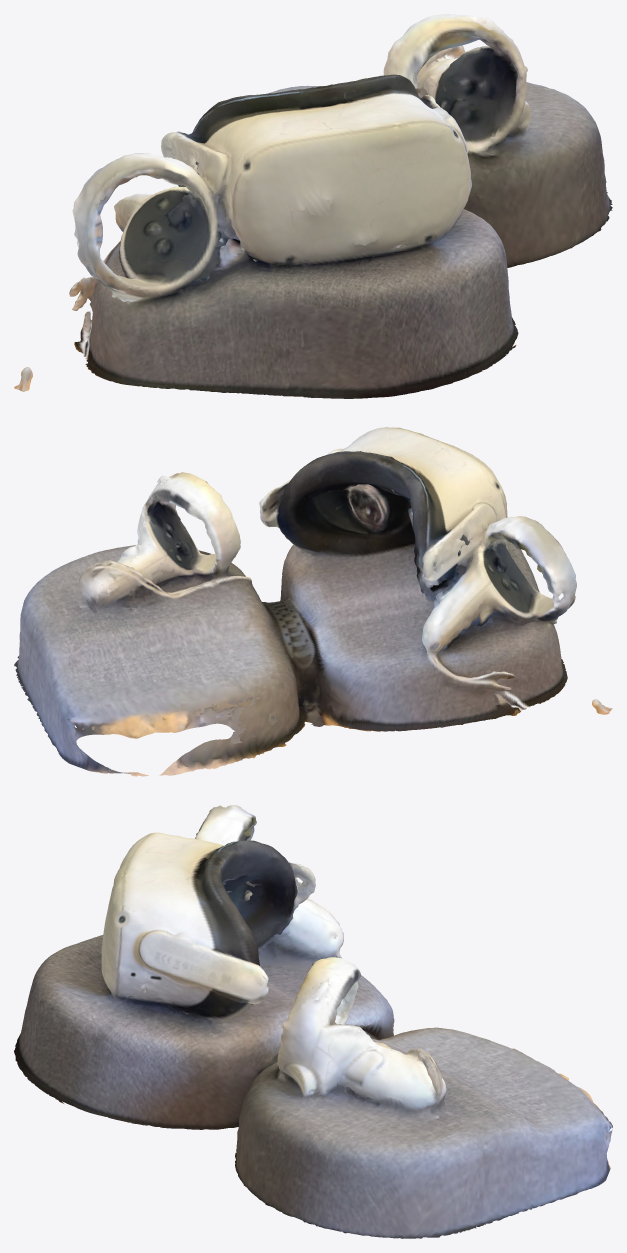
The model's file is meta_quest_2.glb.
The picture shows the model from 3 angles, top to bottom: view 1: azimuth 30°, elevation 25°; view 2: azimuth 150°, elevation 25°; view 3: azimuth 270°, elevation 25°; orthographic projection. The views are drawn at different scales.
Parts seen in each view (by area): view 1: Object_4, Object_5; view 2: Object_4, Object_5; view 3: Object_4, Object_5.
Part boxes in pixels (<box>): Object_4: <box>14,14,585,395</box>; Object_5: <box>30,29,612,398</box>; Object_4: <box>14,427,612,776</box>; Object_5: <box>36,427,568,727</box>; Object_4: <box>104,805,612,1238</box>; Object_5: <box>14,834,438,1238</box>.
Bounding box in the file's own units: 0.5046 × 0.2001 × 0.4501.
Materials: 1 (1 with a texture image).
